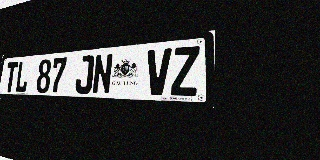7: (49, 57, 67, 93)
8: (35, 59, 52, 93)
J: (74, 55, 95, 94)
L: (15, 61, 30, 93)
N: (92, 53, 113, 94)
T: (4, 62, 18, 92)
V: (145, 48, 172, 96)
Z: (171, 46, 200, 96)
